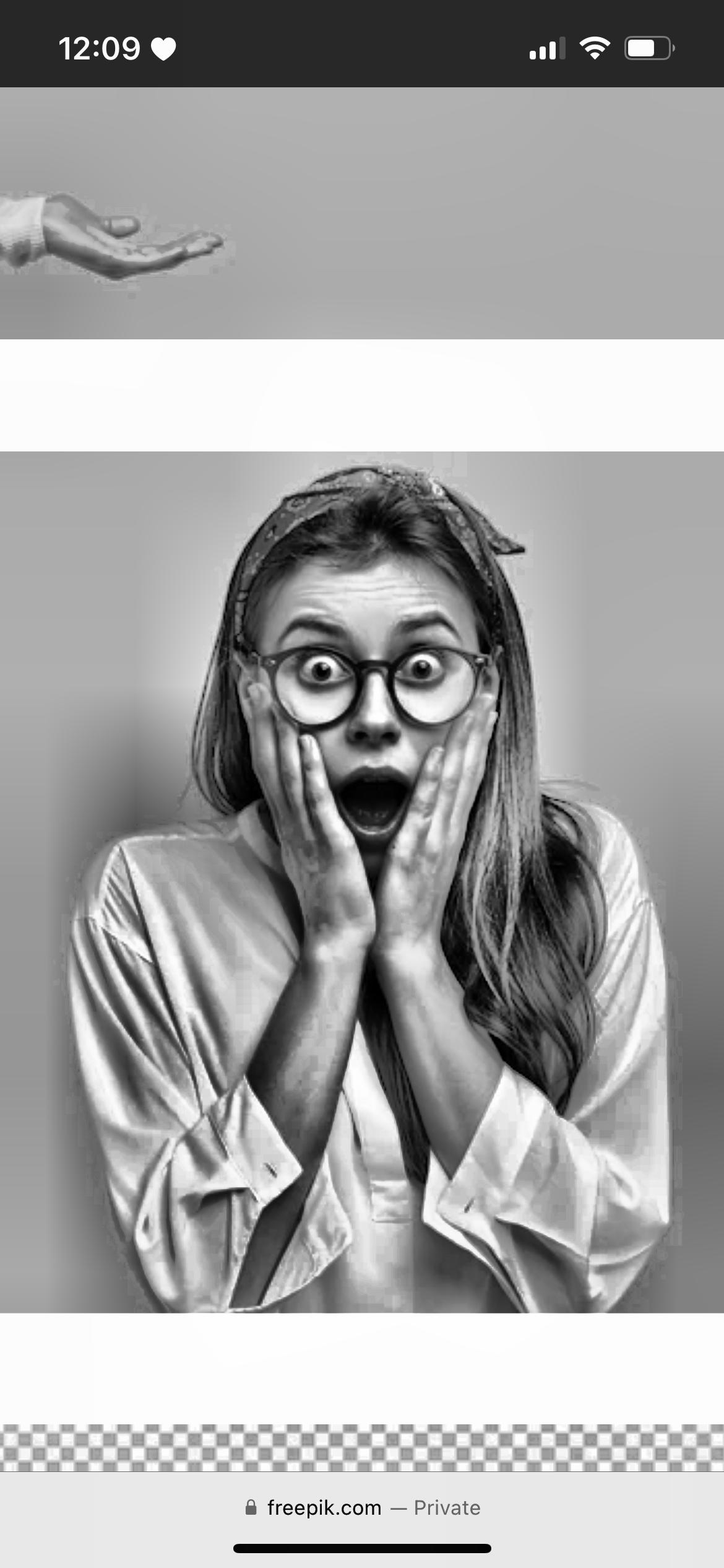Surprised: (246, 502, 528, 902)
